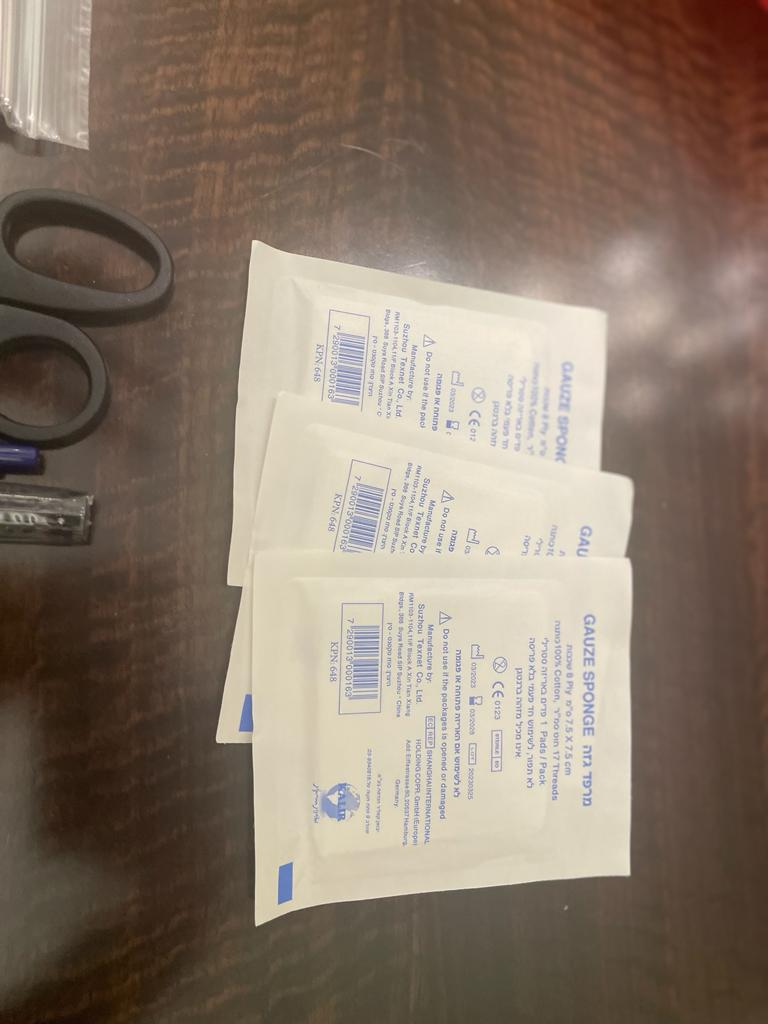other: (227, 554, 670, 924), (215, 213, 637, 496), (233, 394, 686, 588)
